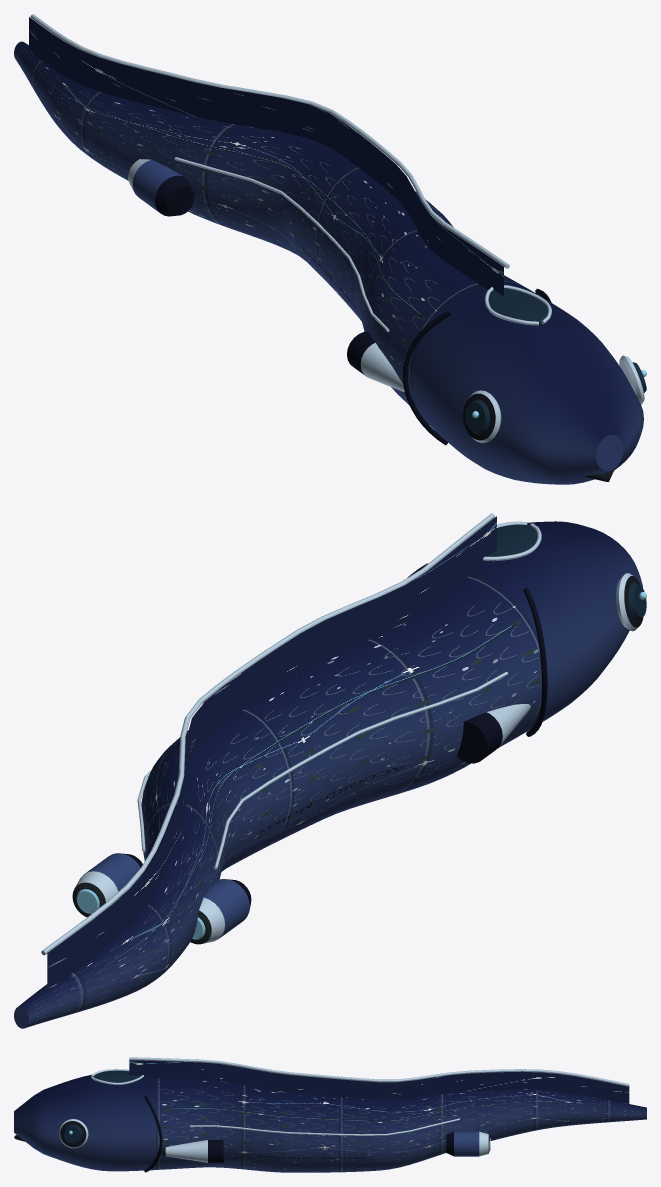
3 views of the same model, one above another, from view 1: azimuth 30°, elevation 25°; view 2: azimuth 150°, elevation 25°; view 3: azimuth 270°, elevation 25° (orthographic). The views are drawn at different scales.
Parts seen in each view (by area): view 1: moray_hull; view 2: moray_hull; view 3: moray_hull.
Boxes of the visible parts, x1,y1,x2,y2 form: moray_hull: [14, 14, 646, 484]; moray_hull: [14, 513, 646, 1028]; moray_hull: [14, 1057, 646, 1172].
Size of the model in its own units: 7.73 by 7.97 by 42.
Materials: 1 (1 with a texture image).
